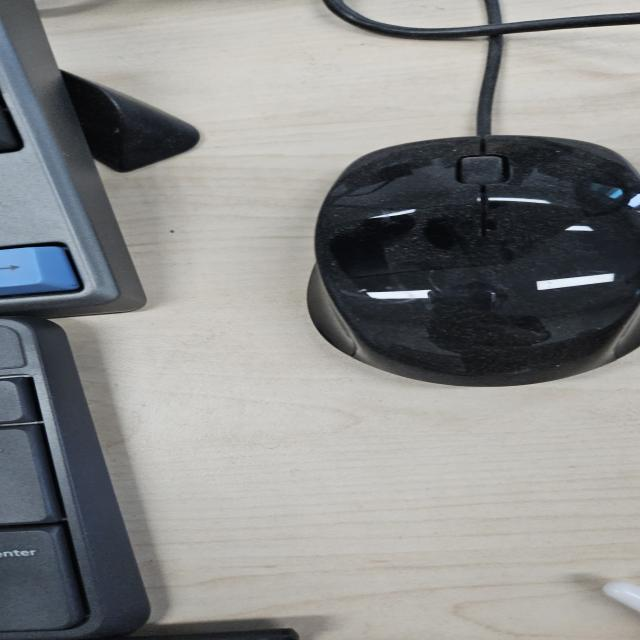Mouse: (304, 133, 638, 387)
